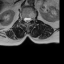CCS_normal: (26, 15, 28, 24)
LFS_stenosis: (31, 15, 33, 22)
LLS_normal: (28, 15, 31, 23)
RFS_normal: (22, 15, 24, 22)
RLS_normal: (24, 15, 26, 23)
